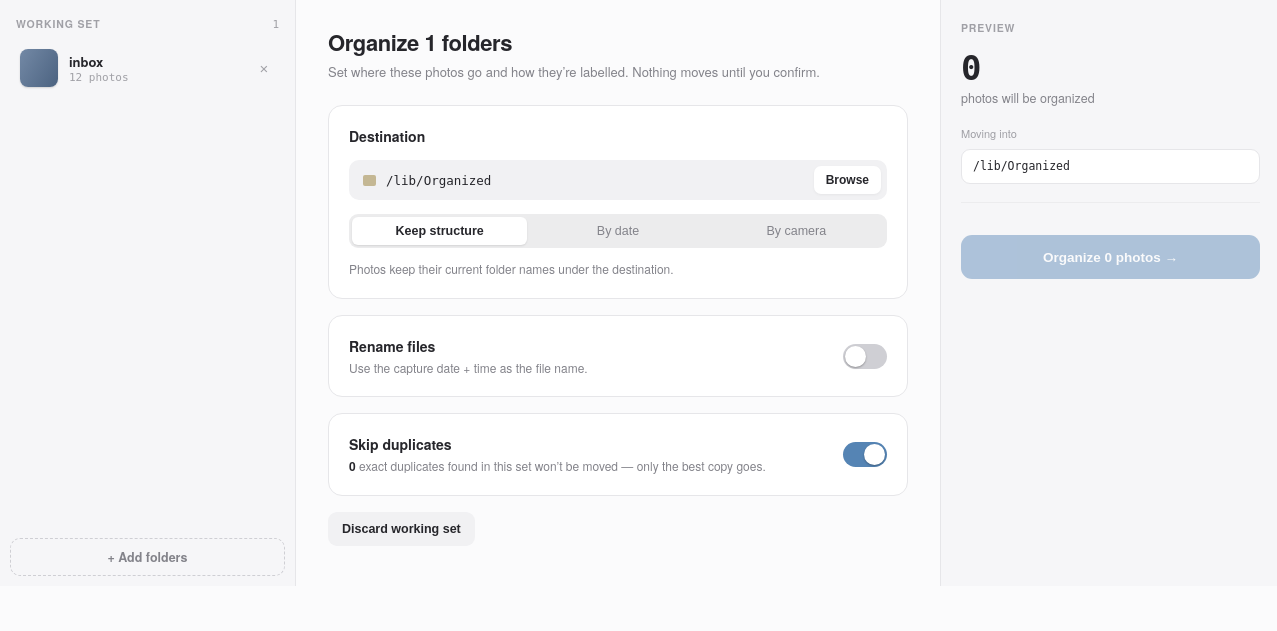
Test: OrganizeView › switching the segmented mode updates the help text
Expected: the text with class "help" shows "keep their current folder names", [349,260,674,277]
Click the radio button with class "seg-btn" showing "By date".
click(618, 231)  # box [530,217,706,245]
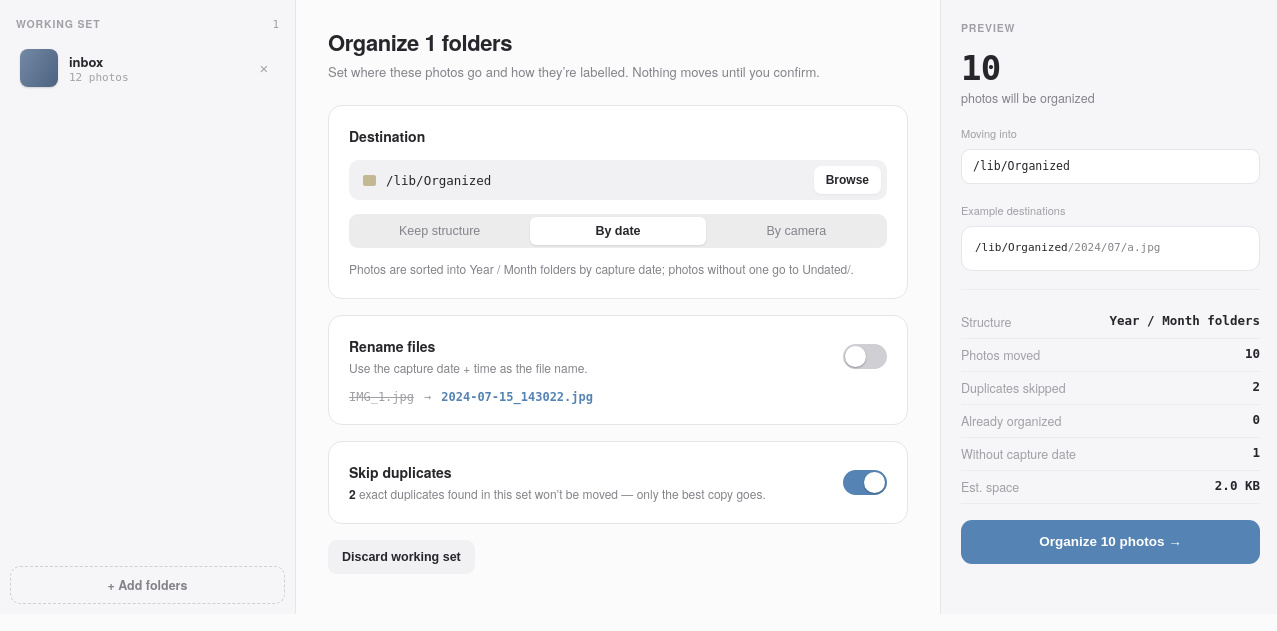
Now the text with class "help" shows "Year / Month", box [349,260,854,277]
Now the text with class "help" shows "Undated/", box [349,260,854,277]
